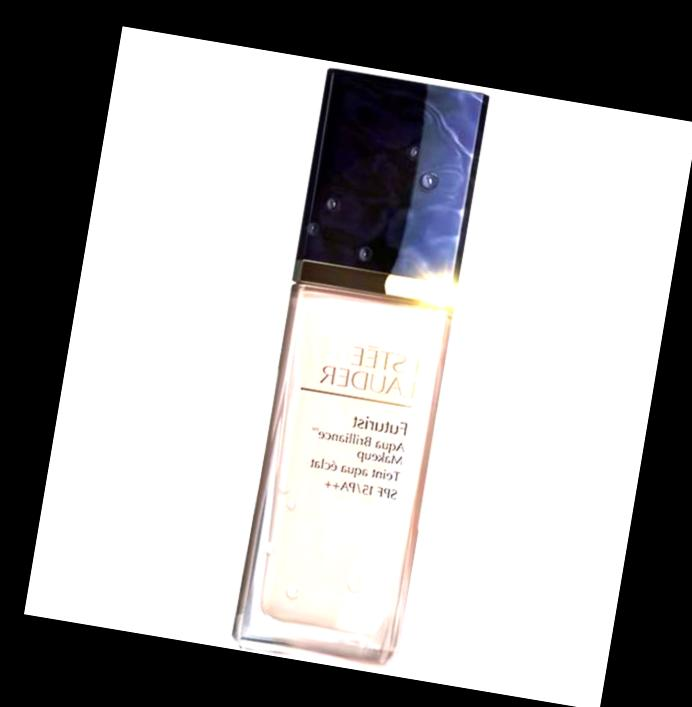cosmetic: (227, 65, 491, 672)
